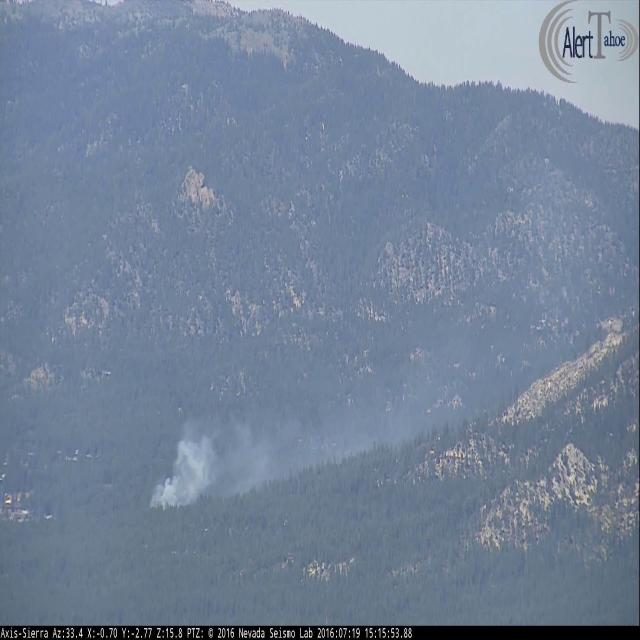smoke: (147, 314, 558, 512)
